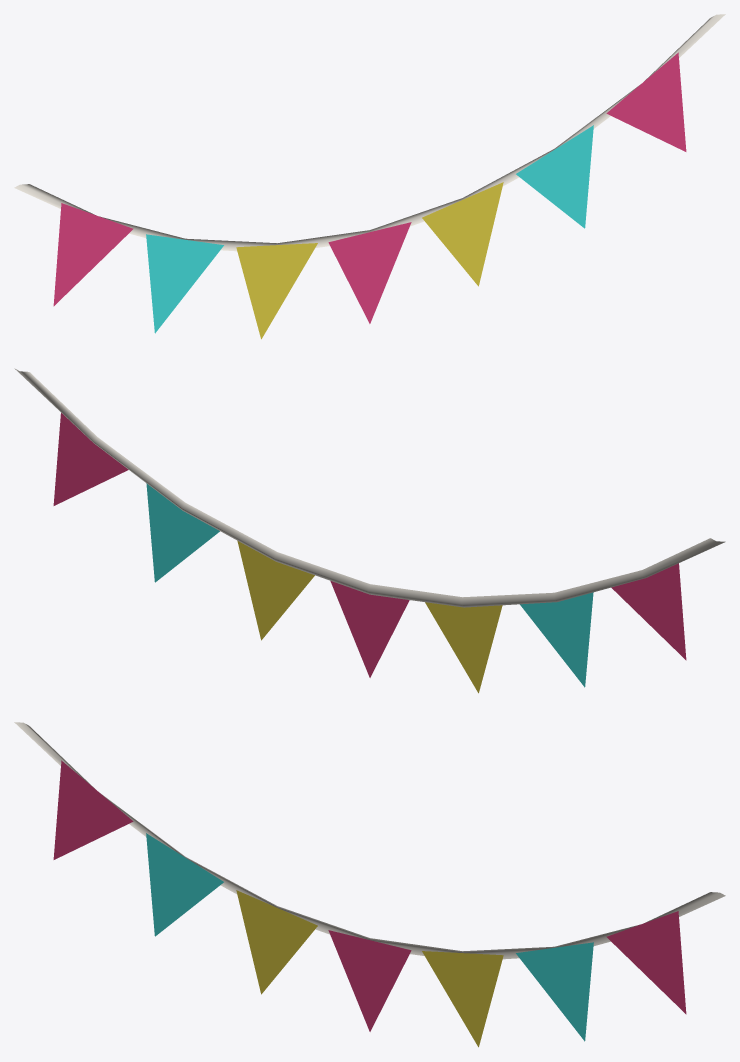
Rendered from BannerFlags_geo.fbx.
The picture shows the model from 3 angles, top to bottom: view 1: azimuth 30°, elevation 25°; view 2: azimuth 150°, elevation 25°; view 3: azimuth 330°, elevation 25°; orthographic projection.
Visible parts, largest first — view 1: BannerFlags_geo; view 2: BannerFlags_geo; view 3: BannerFlags_geo.
Boxes of the visible parts, x1,y1,x2,y2 form: BannerFlags_geo: (14, 14, 725, 339); BannerFlags_geo: (14, 368, 725, 693); BannerFlags_geo: (14, 722, 725, 1047).
Size of the model in its own units: 3.01 by 0.0133 by 0.9044.
